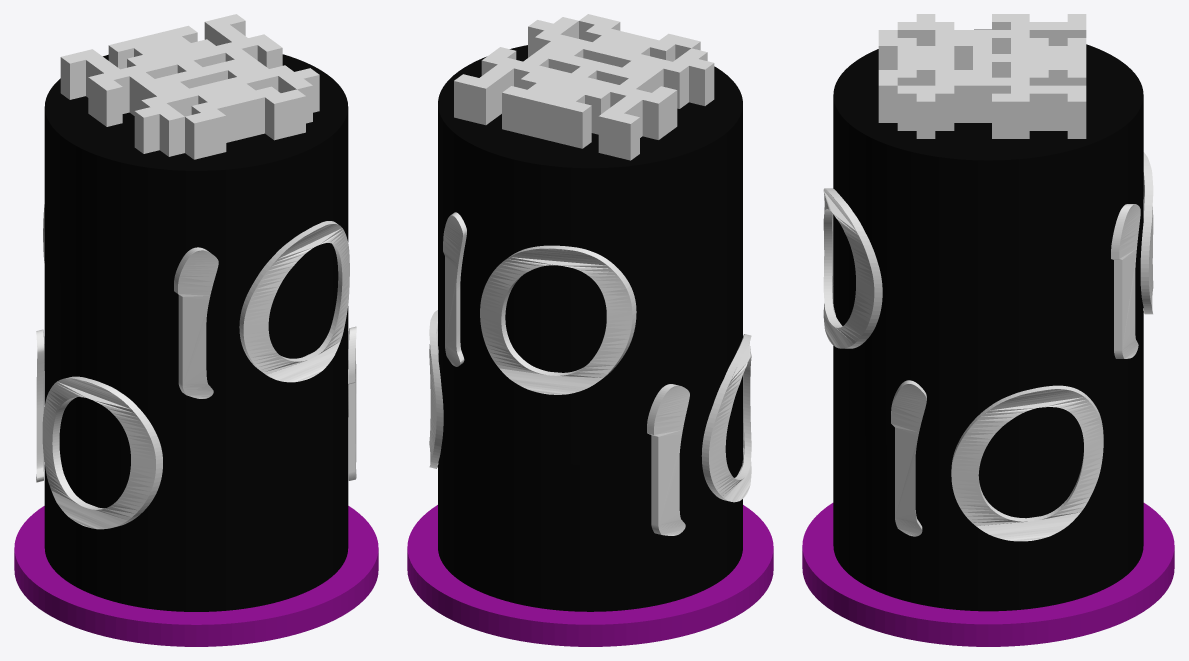
File: si-keilat-1-5-unityyn-keila10.fbx
3 views of the same model, side by side, from view 1: azimuth 30°, elevation 25°; view 2: azimuth 150°, elevation 25°; view 3: azimuth 270°, elevation 25° (orthographic). The views are drawn at different scales.
Parts seen in each view (by area): view 1: Cylinder.020, Plane.005, Cylinder.019, Text.042, Text.039, Text.040; view 2: Cylinder.020, Plane.005, Cylinder.019, Text.041, Text.039, Text.040; view 3: Cylinder.020, Plane.005, Cylinder.019, Text.040, Text.042, Text.041.
Boxes of the visible parts, bbox=[...] form: Cylinder.020: bbox=[44, 54, 348, 611]; Plane.005: bbox=[60, 14, 319, 159]; Cylinder.019: bbox=[14, 506, 378, 646]; Text.042: bbox=[174, 221, 349, 398]; Text.039: bbox=[36, 329, 162, 529]; Text.040: bbox=[348, 326, 356, 480]; Cylinder.020: bbox=[438, 45, 742, 611]; Plane.005: bbox=[454, 14, 714, 160]; Cylinder.019: bbox=[407, 505, 773, 646]; Text.041: bbox=[443, 212, 636, 394]; Text.039: bbox=[647, 334, 751, 535]; Text.040: bbox=[429, 310, 443, 468]; Cylinder.020: bbox=[833, 29, 1143, 611]; Plane.005: bbox=[878, 14, 1086, 138]; Cylinder.019: bbox=[802, 503, 1174, 646]; Text.040: bbox=[891, 380, 1103, 541]; Text.042: bbox=[823, 188, 882, 348]; Text.041: bbox=[1111, 152, 1153, 358].
Size of the model in its own units: 448 by 678 by 448.
